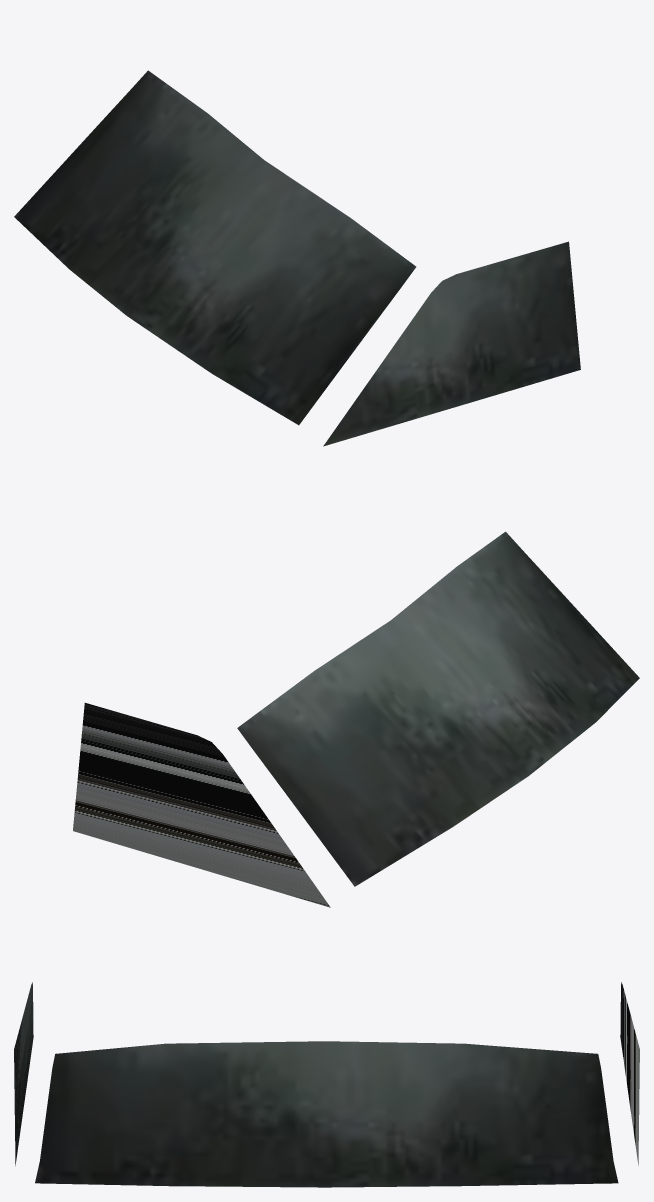
Rendered from utility_truck_windows.glb.
3 views of the same model, one above another, from view 1: azimuth 30°, elevation 25°; view 2: azimuth 150°, elevation 25°; view 3: azimuth 270°, elevation 25° (orthographic). The views are drawn at different scales.
Parts seen in each view (by area): view 1: 0_utility_truck; view 2: 0_utility_truck; view 3: 0_utility_truck.
Part boxes in pixels (x1=…): 0_utility_truck: x1=14, y1=70, x2=580, y2=446; 0_utility_truck: x1=73, y1=531, x2=639, y2=907; 0_utility_truck: x1=14, y1=982, x2=639, y2=1187.
Size of the model in its own units: 1.36 by 0.5544 by 1.87.
1 material, 1 textured.
